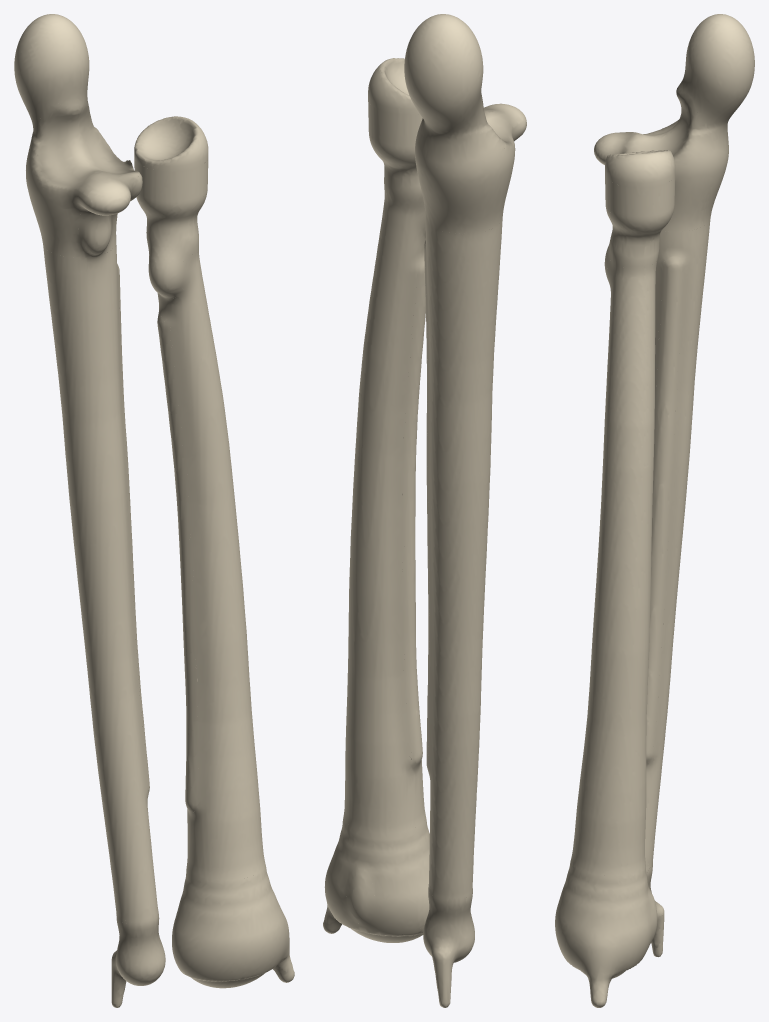
The model's file is radio-y-cubito-anterior.glb.
The picture shows the model from 3 angles, left to right: view 1: azimuth 30°, elevation 25°; view 2: azimuth 150°, elevation 25°; view 3: azimuth 270°, elevation 25°; orthographic projection. The views are drawn at different scales.
Parts seen in each view (by area): view 1: ulna_L_shaft, radius_L_shaft, radius_L_distal_end, ulna_L_olecranon, ulna_L_trochlear_notch, radius_L_interosseous_border, radius_L_head, ulna_L_head, radius_L_neck, radius_L_articular_circumference, ulna_L_coronoid, radius_L_tuberosity (+2 smaller); view 2: ulna_L_shaft, radius_L_shaft, ulna_L_olecranon, radius_L_distal_end, radius_L_interosseous_border, ulna_L_head, radius_L_head, radius_L_neck, radius_L_articular_circumference, radius_L_dorsal_tubercle, ulna_L_trochlear_notch, ulna_L_interosseous_border (+2 smaller); view 3: radius_L_shaft, ulna_L_shaft, ulna_L_olecranon, ulna_L_interosseous_border, radius_L_distal_end, radius_L_neck, ulna_L_trochlear_notch, radius_L_head, radius_L_articular_circumference, radius_L_styloid, ulna_L_coronoid.
Part boxes in pixels (box(x1,y1,x2,y2)): ulna_L_shaft: box(43, 244, 158, 924); radius_L_shaft: box(157, 248, 265, 879); radius_L_distal_end: box(173, 864, 289, 987); ulna_L_olecranon: box(14, 14, 117, 257); ulna_L_trochlear_notch: box(30, 98, 139, 194); radius_L_interosseous_border: box(157, 314, 198, 813); radius_L_head: box(134, 116, 208, 171); ulna_L_head: box(111, 915, 163, 985); radius_L_neck: box(136, 190, 207, 259); radius_L_articular_circumference: box(134, 158, 208, 205); ulna_L_coronoid: box(72, 176, 140, 223); radius_L_tuberosity: box(148, 244, 184, 299); ulna_L_shaft: box(425, 219, 502, 900); radius_L_shaft: box(343, 191, 425, 833); ulna_L_olecranon: box(404, 14, 515, 234); radius_L_distal_end: box(324, 816, 429, 942); radius_L_interosseous_border: box(402, 262, 425, 767); ulna_L_head: box(425, 888, 474, 965); radius_L_head: box(368, 58, 419, 114); radius_L_neck: box(369, 135, 423, 201); radius_L_articular_circumference: box(368, 100, 422, 149); radius_L_dorsal_tubercle: box(346, 864, 374, 925); ulna_L_trochlear_notch: box(481, 91, 516, 153); ulna_L_interosseous_border: box(424, 240, 429, 769); radius_L_shaft: box(571, 256, 657, 875); ulna_L_shaft: box(645, 220, 710, 871); ulna_L_olecranon: box(661, 14, 754, 231); ulna_L_interosseous_border: box(646, 257, 684, 762); radius_L_distal_end: box(555, 860, 653, 978); radius_L_neck: box(605, 206, 674, 268); ulna_L_trochlear_notch: box(621, 84, 698, 166); radius_L_head: box(605, 150, 675, 188); radius_L_articular_circumference: box(605, 175, 675, 219); radius_L_styloid: box(581, 949, 617, 1007); ulna_L_coronoid: box(594, 132, 626, 164).
Size of the model in its own units: 0.0648 by 0.2774 by 0.0543.
